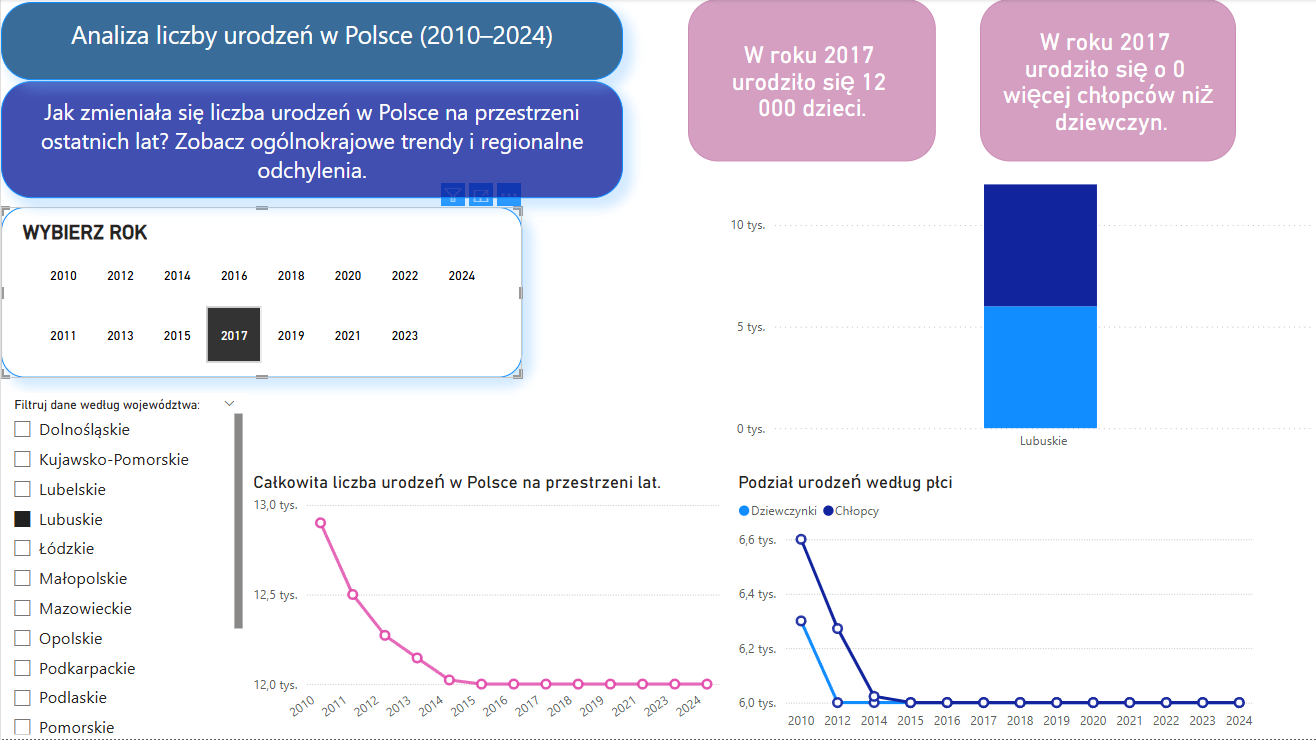

The page's visual inventory and layout, read from the dashboard file:
{"tool":"powerbi","page":{"name":"Strona 1","canvas":[1280,720],"ordinal":0},"visuals":[{"type":"slicer","fields":{"Values":["2010.Rok"]},"box":[0,202.3,506.7,166.3],"z":0},{"type":"textbox","box":[0,79.8,605,113.8],"z":1000},{"type":"lineChart","title":"Całkowita liczba urodzeń w Polsce na przestrzeni lat.","fields":{"Category":["2010.Rok"],"Y":["2010.Całkowita liczba urodzeń"]},"box":[240.2,459.1,464,260.7],"z":2000},{"type":"lineChart","title":"Podział urodzeń według płci","fields":{"Y":["Sum(2010.Dziewczynki)","Sum(2010.Chłopcy)"],"Category":["2010.Rok"]},"box":[712,459.1,512.6,260.7],"z":3000},{"type":"card","fields":{"Values":["2010.CałkowitaUrodzeniaWybranyRok"]},"box":[668.2,0,241.2,157.6],"z":4000},{"type":"card","fields":{"Values":["2010.RoznicaPlecWybranyRok"]},"box":[952.2,0,249,157.6],"z":5000},{"type":"columnChart","fields":{"Category":["2010.Województwo"],"Y":["Sum(2010.Chlopcy)","Sum(2010.Dziewczynki)"]},"box":[704.2,166.3,575.8,281.1],"z":6000},{"type":"textbox","box":[0,2.9,605,75.9],"z":7000},{"type":"slicer","fields":{"Values":["2010.Województwo"]},"box":[0,383.2,240.2,336.5],"z":8000}]}

Visuals, with their boxes on the page's 1280x720 design canvas (x1, y1, x2, y2). These are canvas units, not pixel positions in the 1316x740 screenshot, which may show the page scaled, cropped or inside an application window:
slicer - 2010.Rok: {"left": 0, "top": 202, "right": 507, "bottom": 369}
textbox: {"left": 0, "top": 80, "right": 605, "bottom": 194}
"Całkowita liczba urodzeń w Polsce na przestrzeni lat." lineChart: {"left": 240, "top": 459, "right": 704, "bottom": 720}
"Podział urodzeń według płci" lineChart: {"left": 712, "top": 459, "right": 1225, "bottom": 720}
card - 2010.CałkowitaUrodzeniaWybranyRok: {"left": 668, "top": 0, "right": 909, "bottom": 158}
card - 2010.RoznicaPlecWybranyRok: {"left": 952, "top": 0, "right": 1201, "bottom": 158}
columnChart - 2010.Województwo x Sum(2010.Chlopcy): {"left": 704, "top": 166, "right": 1280, "bottom": 447}
textbox: {"left": 0, "top": 3, "right": 605, "bottom": 79}
slicer - 2010.Województwo: {"left": 0, "top": 383, "right": 240, "bottom": 720}
